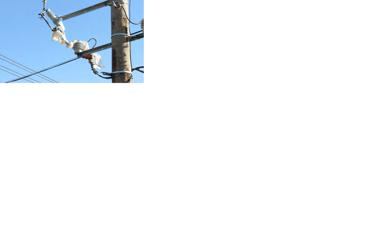yw: (209, 99, 286, 180)
